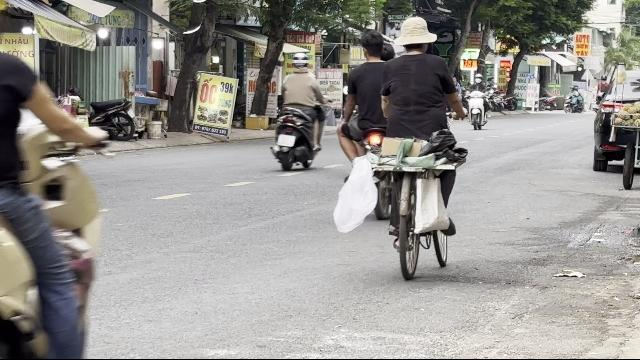helmet: (290, 52, 310, 72)
licenseplate: (278, 134, 296, 148)
motorcyclist: (270, 52, 326, 170)
nohelmet: (359, 30, 386, 60)
